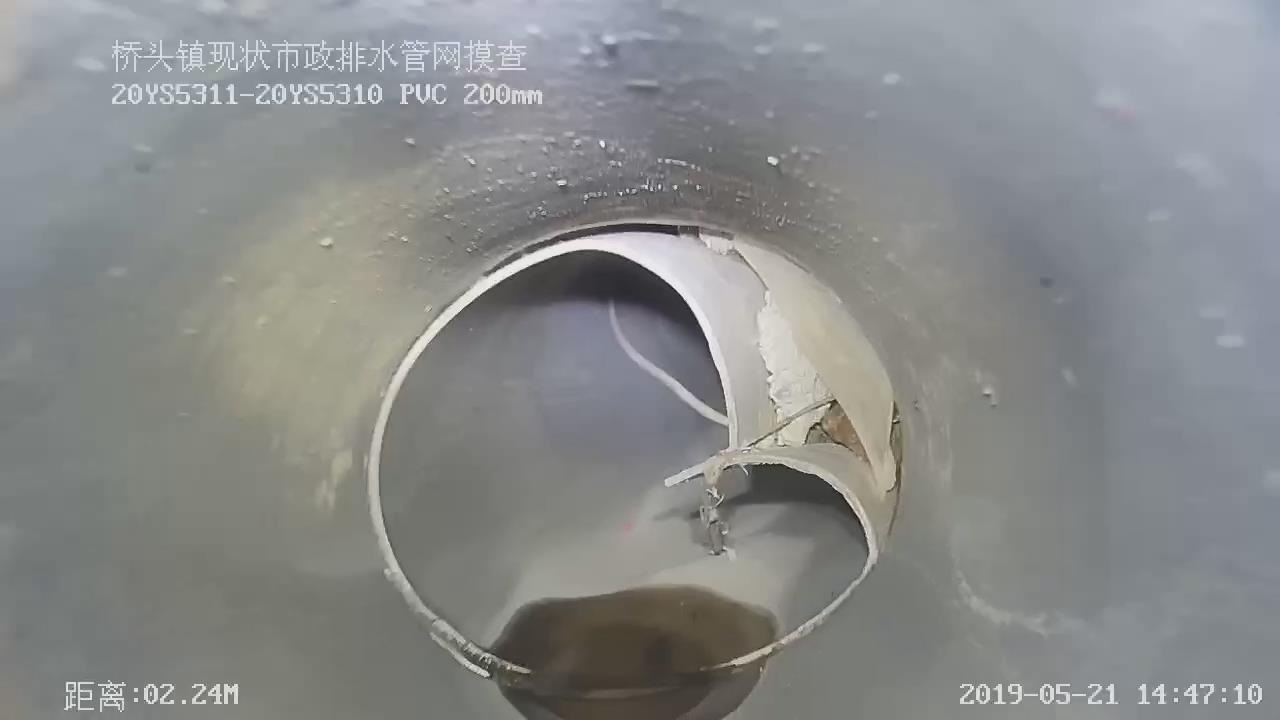PL: (621, 204, 935, 569)
